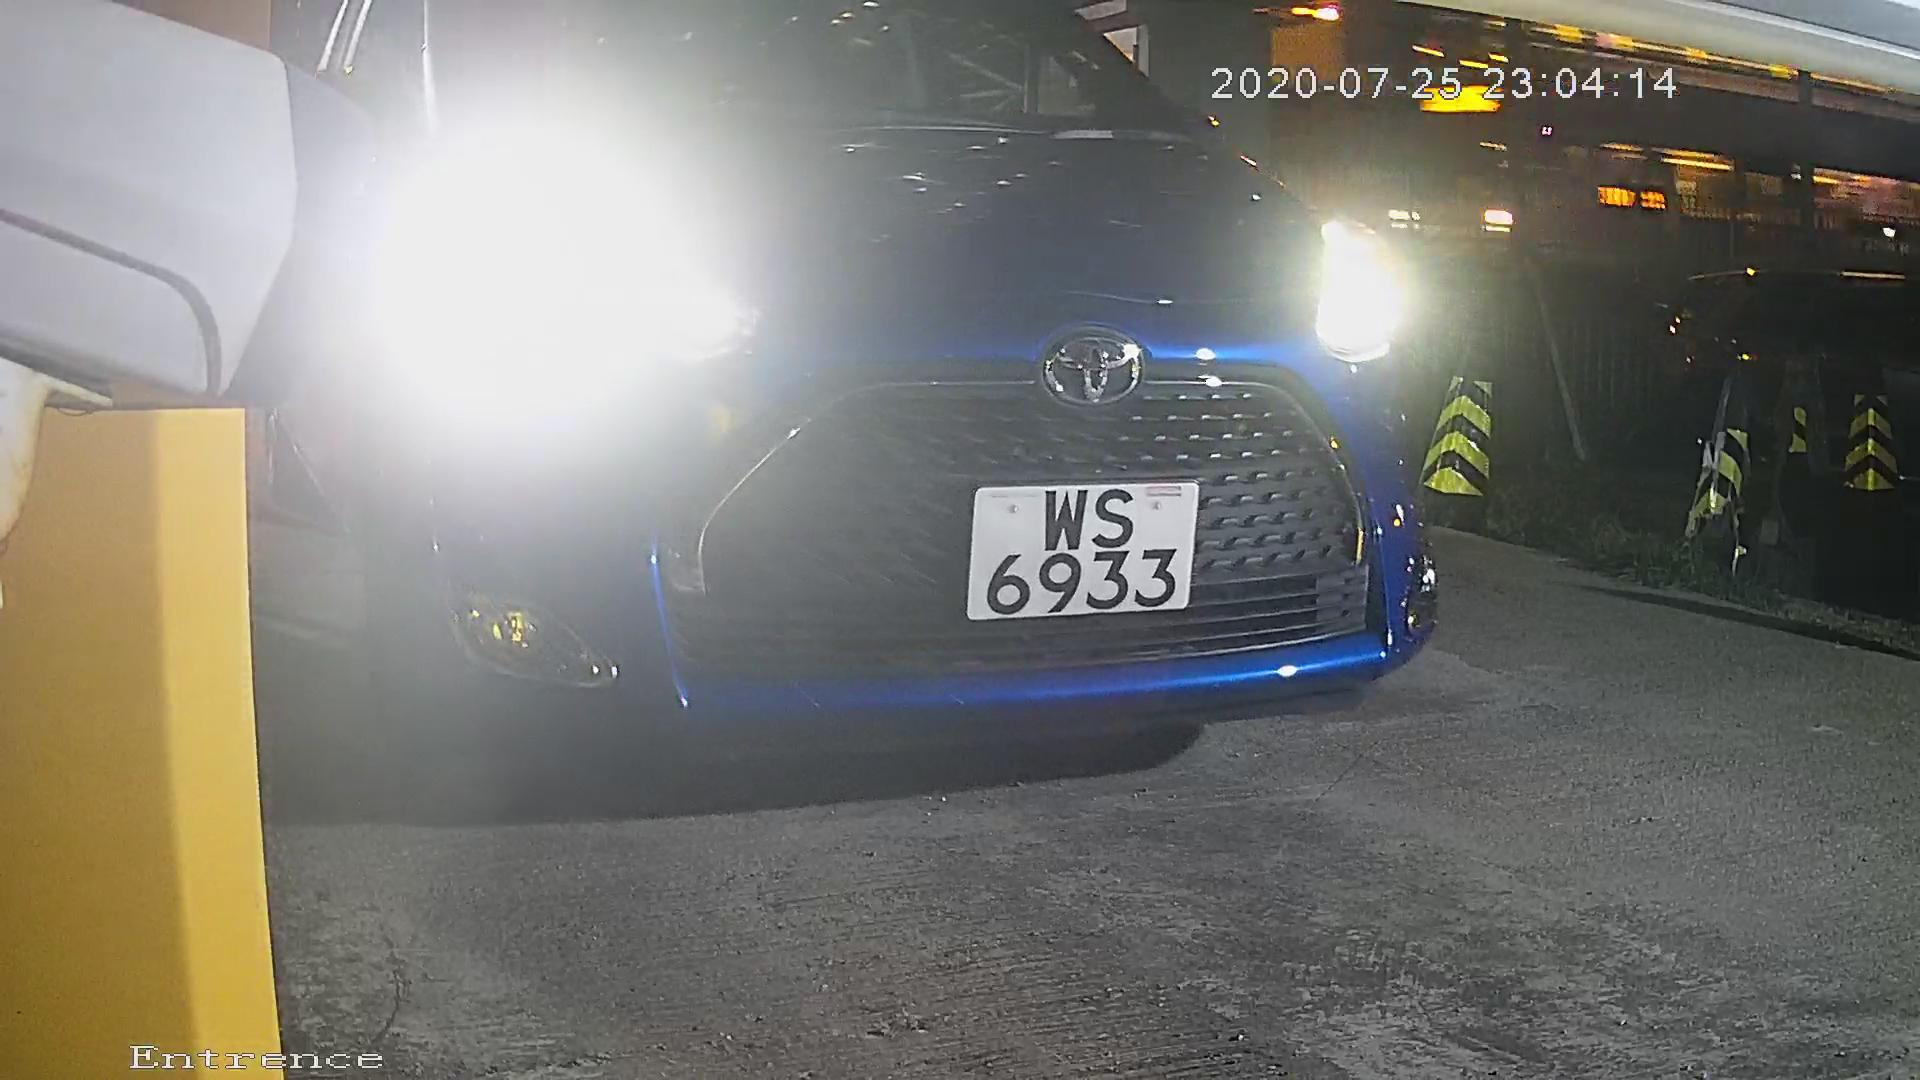Car: (9, 5, 1561, 839)
License Plate: (935, 468, 1226, 637)
